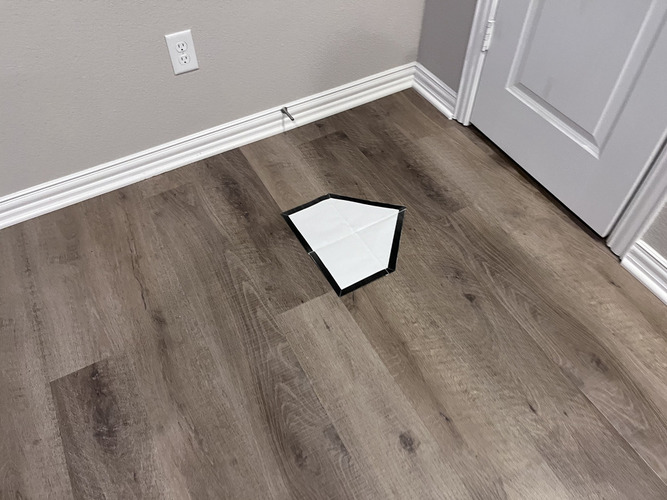homeplate: (281, 192, 405, 297)
